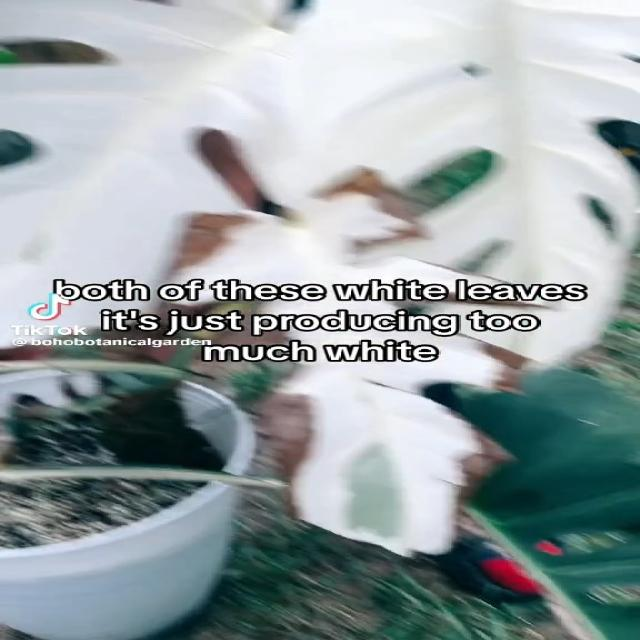lisc_suchy: (253, 338, 527, 558), (180, 132, 508, 282)
lisc_variegata: (260, 339, 523, 558)
